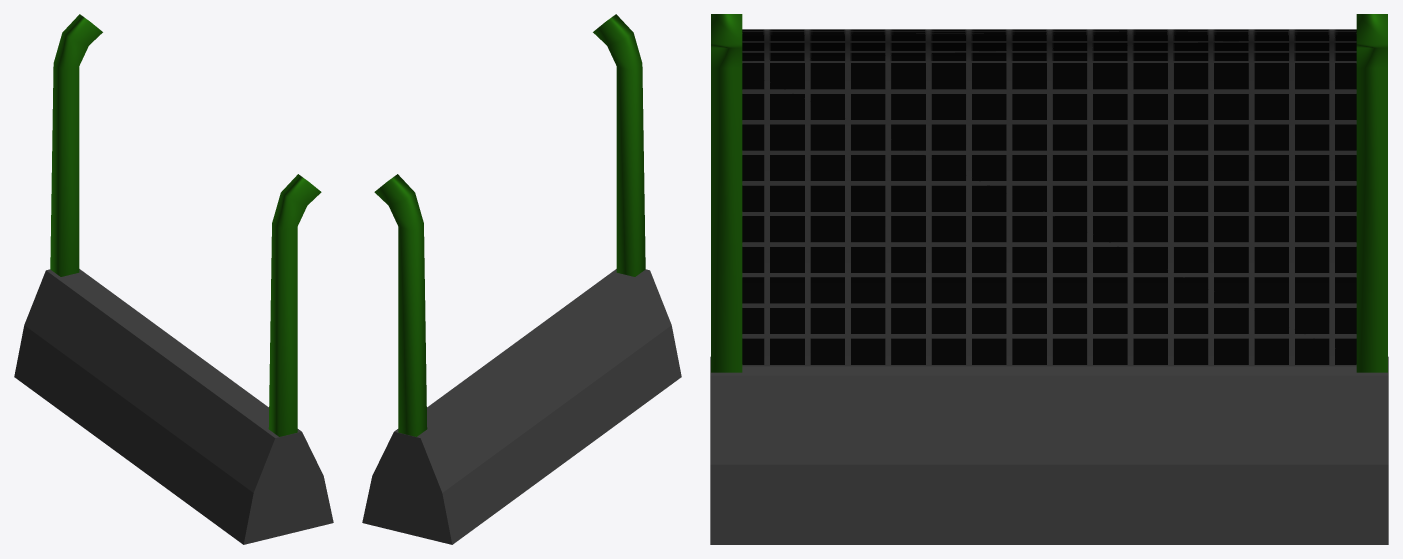
File: fence.glb
3 views of the same model, side by side, from view 1: azimuth 30°, elevation 25°; view 2: azimuth 150°, elevation 25°; view 3: azimuth 270°, elevation 25° (orthographic). The views are drawn at different scales.
Parts seen in each view (by area): view 1: Cube.001, Cube; view 2: Cube.001, Cube; view 3: Cube, Cube.001.
Part boxes in pixels (x1,y1,x2,y2): Cube.001: (14, 269, 333, 544); Cube: (50, 14, 321, 436); Cube.001: (362, 269, 681, 544); Cube: (374, 14, 645, 436); Cube: (711, 14, 1387, 372); Cube.001: (710, 356, 1388, 544).
Size of what is drawn, in the model's own units: 0.9529 by 3.51 by 4.2.
3 materials, 1 textured.
